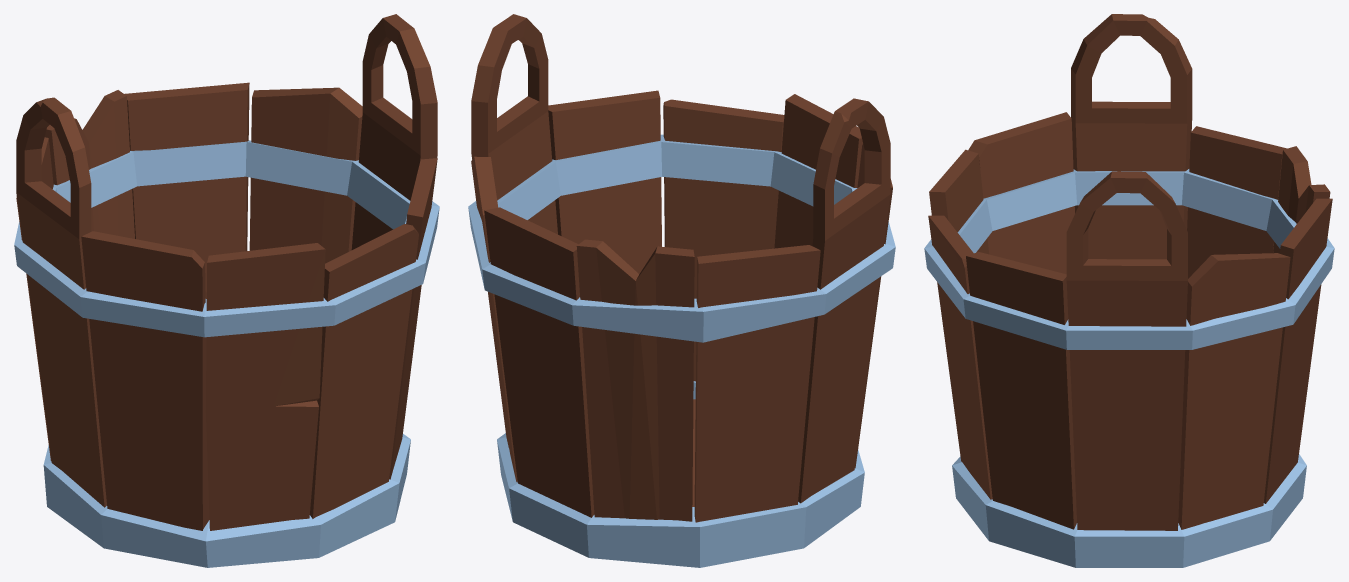
Rendered from Bucket.fbx.
3 views of the same model, side by side, from view 1: azimuth 30°, elevation 25°; view 2: azimuth 150°, elevation 25°; view 3: azimuth 270°, elevation 25° (orthographic). The views are drawn at different scales.
Visible parts, largest first — view 1: Bucket; view 2: Bucket; view 3: Bucket.
Boxes of the visible parts, bbox=[...] form: Bucket: bbox=[14, 14, 439, 567]; Bucket: bbox=[468, 14, 895, 567]; Bucket: bbox=[924, 14, 1334, 567].
Bounding box in the file's own units: 0.3538 × 0.4007 × 0.3705.
